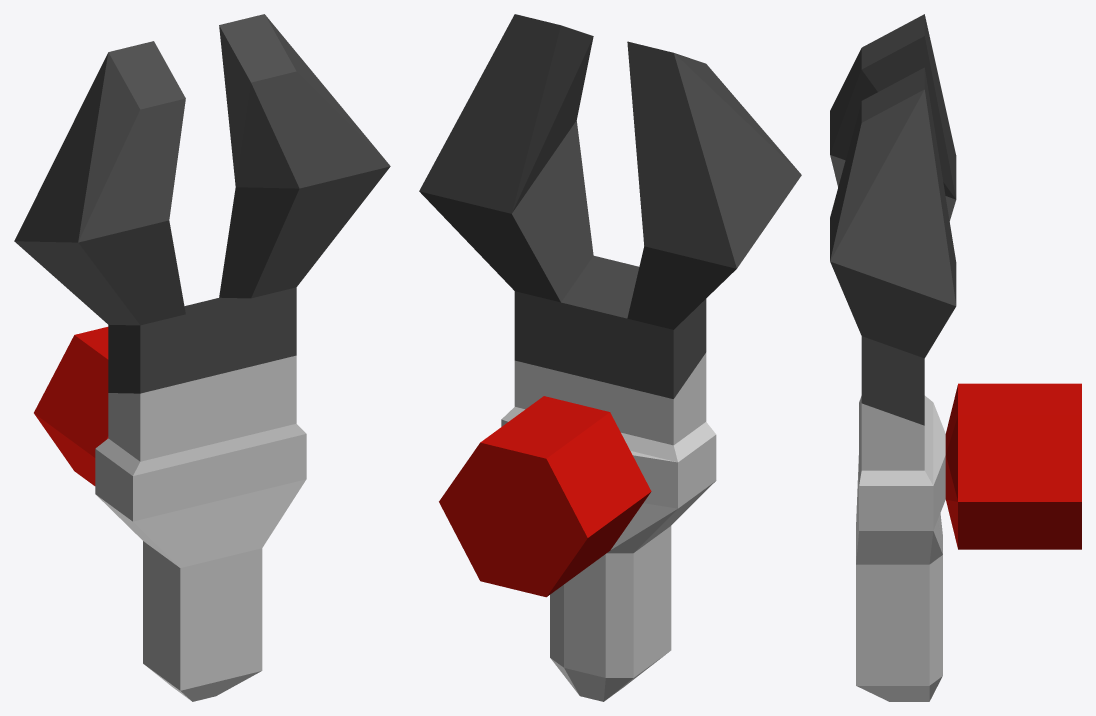
Rendered from TracktorEmmiter.fbx.
3 views of the same model, side by side, from view 1: azimuth 30°, elevation 25°; view 2: azimuth 150°, elevation 25°; view 3: azimuth 270°, elevation 25° (orthographic). The views are drawn at different scales.
Visible parts, largest first — view 1: Tracktor emmiter; view 2: Tracktor emmiter; view 3: Tracktor emmiter.
Part boxes in pixels (bbox=[...]): Tracktor emmiter: bbox=[14, 14, 390, 701]; Tracktor emmiter: bbox=[419, 14, 801, 701]; Tracktor emmiter: bbox=[830, 14, 1081, 701].
Bounding box in the file's own units: 144 × 287 × 102.
